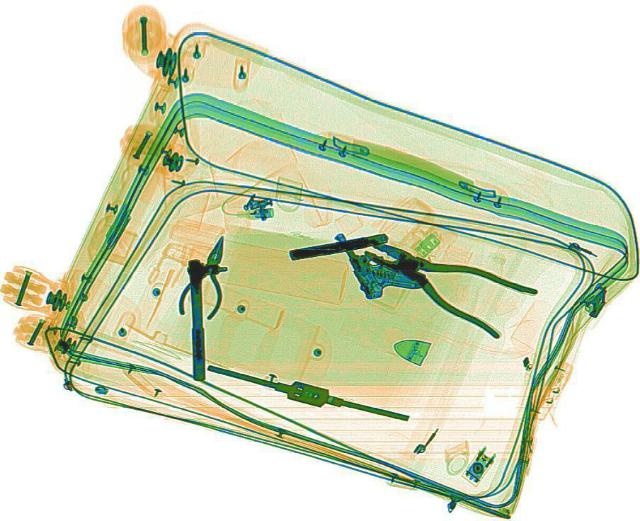Gun: (331, 216, 425, 301), (286, 230, 390, 260)
Pliers: (348, 217, 540, 338), (173, 229, 244, 318)
